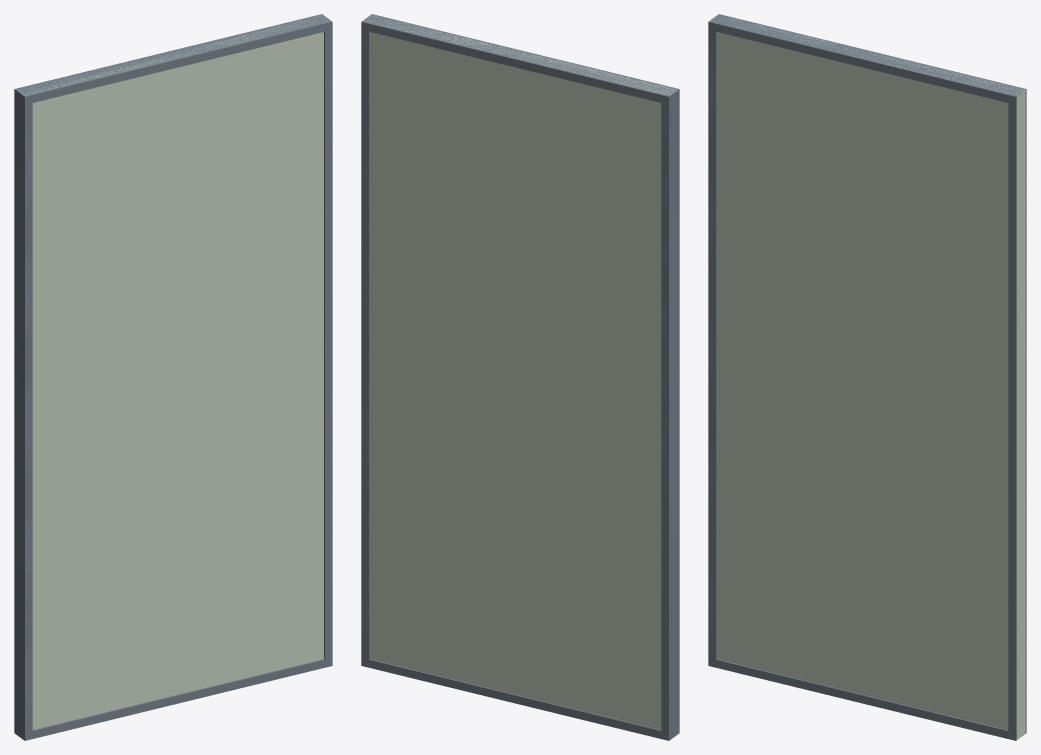
The model's file is ParedVentanaDoblePuerta.fbx.
The picture shows the model from 3 angles, left to right: view 1: azimuth 30°, elevation 25°; view 2: azimuth 150°, elevation 25°; view 3: azimuth 330°, elevation 25°; orthographic projection.
Parts seen in each view (by area): view 1: ParedVentanaPuerta; view 2: ParedVentanaPuerta; view 3: ParedVentanaPuerta.
Part boxes in pixels (bbox=[...]): ParedVentanaPuerta: bbox=[14, 14, 332, 740]; ParedVentanaPuerta: bbox=[361, 14, 679, 740]; ParedVentanaPuerta: bbox=[708, 14, 1026, 740].
Size of the model in its own units: 200 by 400 by 12.
